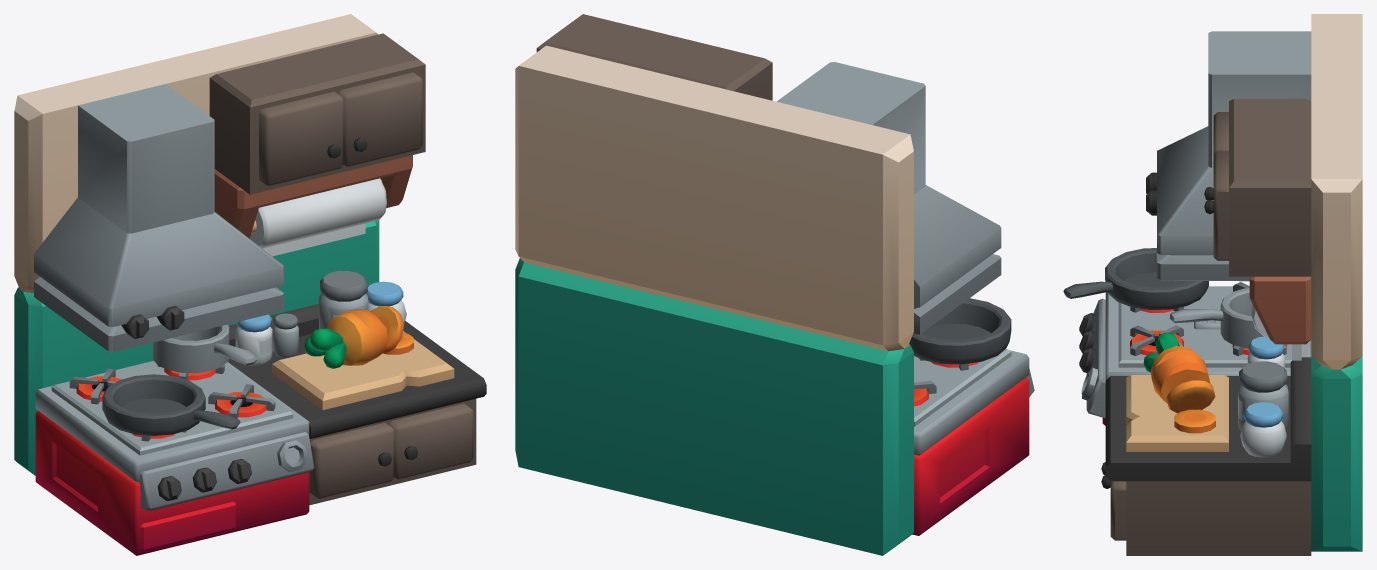
The model's file is wall_decorated_styleB.obj.
The picture shows the model from 3 angles, left to right: view 1: azimuth 30°, elevation 25°; view 2: azimuth 150°, elevation 25°; view 3: azimuth 270°, elevation 25°; orthographic projection. The views are drawn at different scales.
Visible parts, largest first — view 1: wall_decorated_styleB_Cube.033; view 2: wall_decorated_styleB_Cube.033; view 3: wall_decorated_styleB_Cube.033.
Boxes of the visible parts, x1,y1,x2,y2 form: wall_decorated_styleB_Cube.033: (14,14,486,555); wall_decorated_styleB_Cube.033: (515,14,1034,555); wall_decorated_styleB_Cube.033: (1063,14,1362,555).
Bounding box in the file's own units: 4.01 × 4 × 2.91.
Materials: 1 (1 with a texture image).
